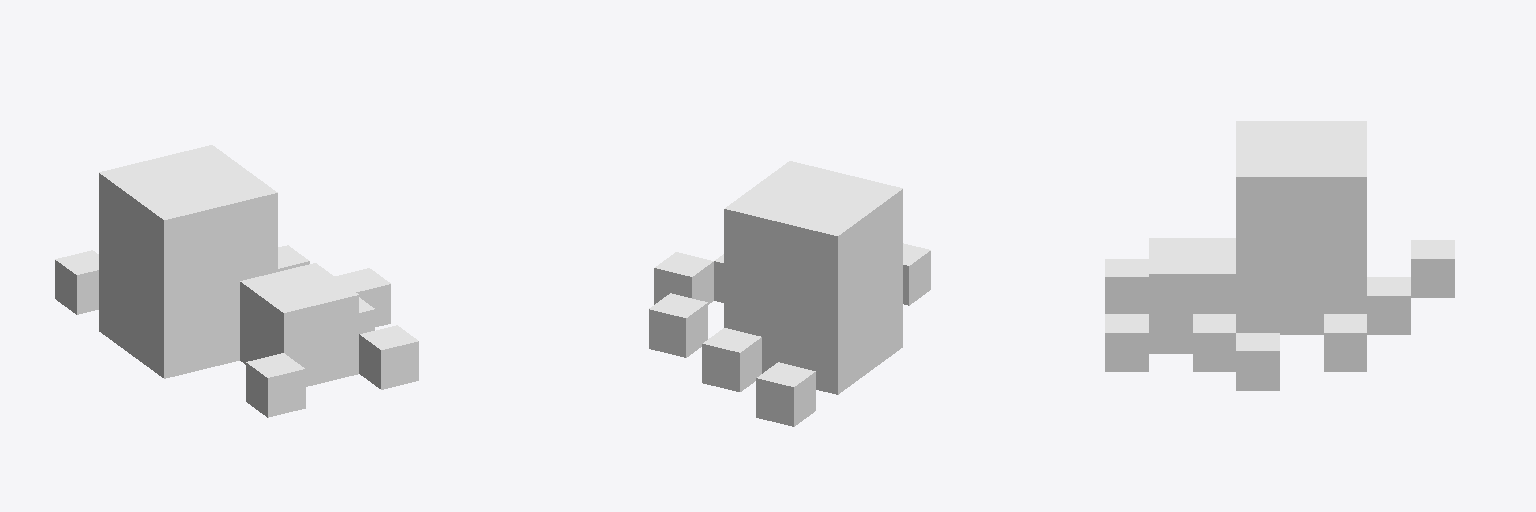
File: piedras_gris.obj
3 renders of one model, left to right at view 1: azimuth 30°, elevation 25°; view 2: azimuth 150°, elevation 25°; view 3: azimuth 270°, elevation 25°, orthographic.
Visible parts, largest first — view 1: object 1; view 2: object 1; view 3: object 1.
Boxes of the visible parts, x1=… form: object 1: x1=55, y1=145, x2=418, y2=417; object 1: x1=649, y1=161, x2=930, y2=426; object 1: x1=1105, y1=121, x2=1454, y2=390.
Size of the model in its own units: 0.6 by 0.4 by 0.8.